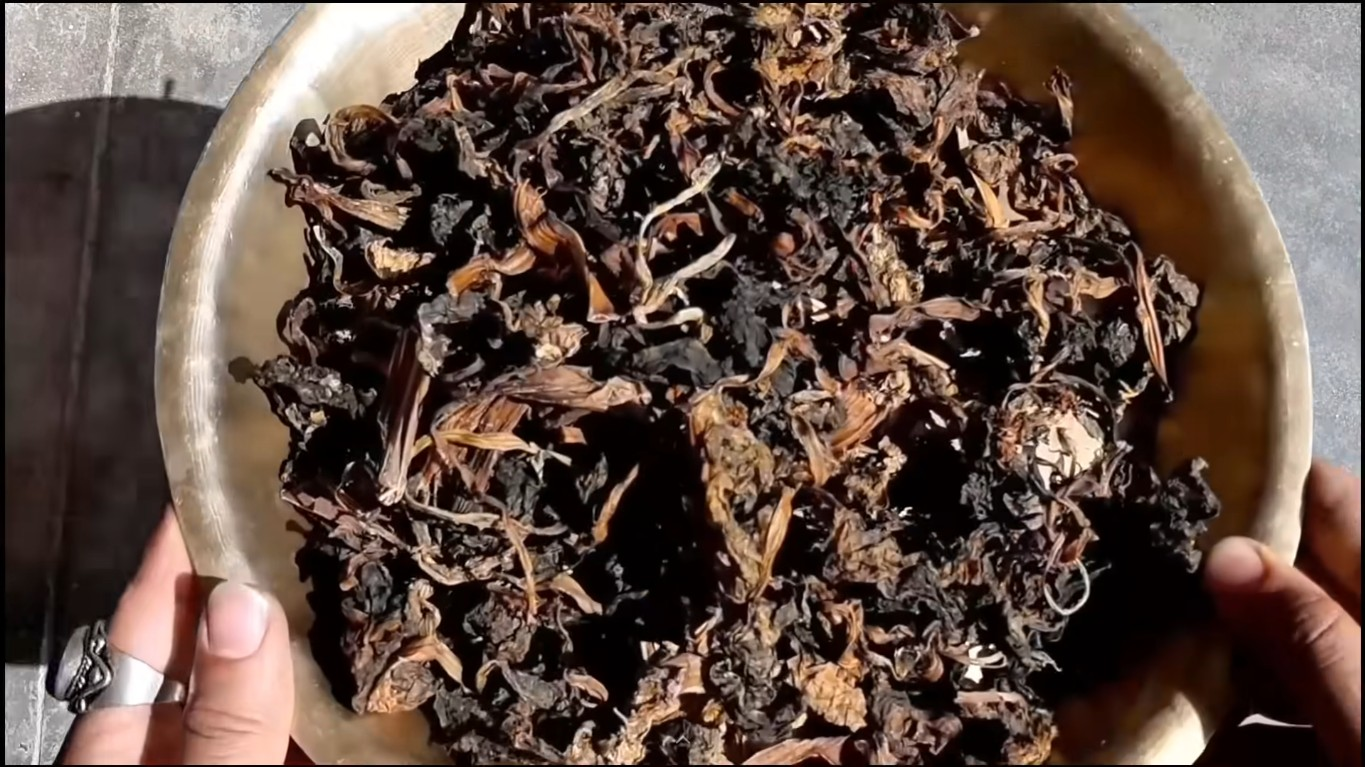gundruk: (288, 12, 1140, 743)
